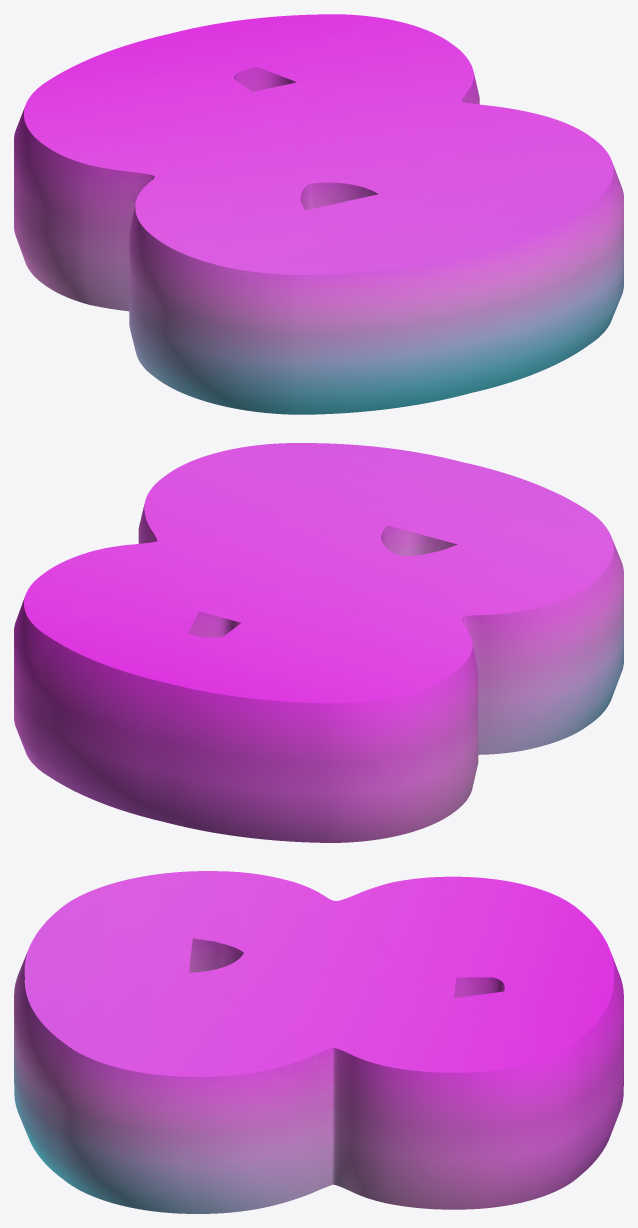
3 renders of one model, top to bottom at view 1: azimuth 30°, elevation 25°; view 2: azimuth 150°, elevation 25°; view 3: azimuth 270°, elevation 25°, orthographic.
Parts seen in each view (by area): view 1: Curve.008; view 2: Curve.008; view 3: Curve.008.
Boxes of the visible parts, x1=… form: Curve.008: x1=14, y1=14, x2=623, y2=414; Curve.008: x1=14, y1=443, x2=623, y2=842; Curve.008: x1=14, y1=871, x2=623, y2=1213.
Size of the model in its own units: 37.88 by 11.36 by 45.84.
1 material, 1 textured.
